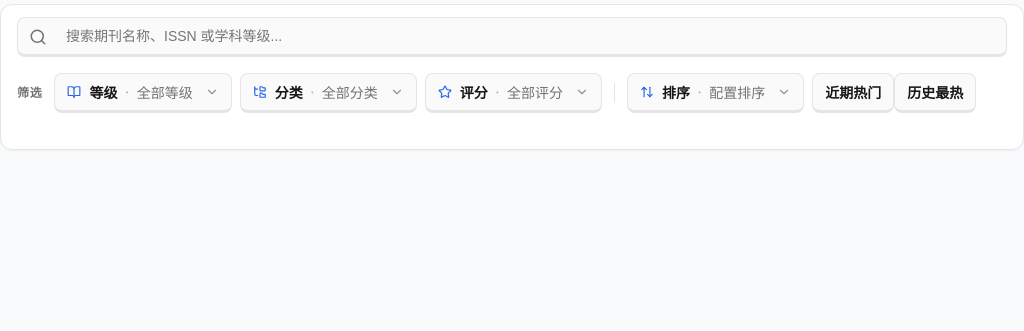
SearchAndFilter › Level Filter › should open level dropdown when clicked
Click the text "全部等级": (165, 92) [137,82,193,102]
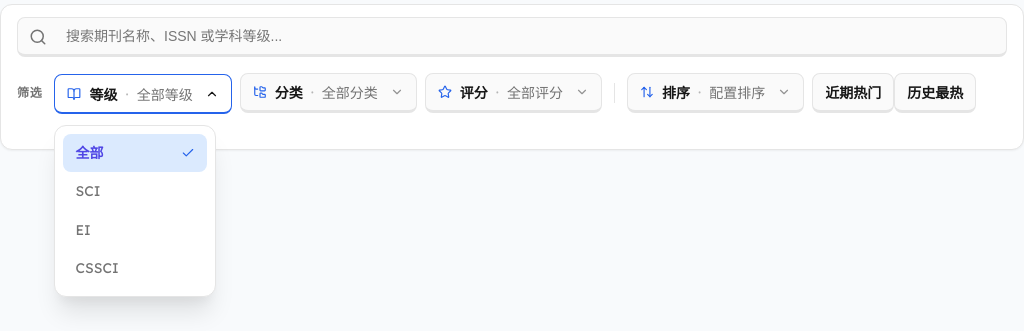
Result: the text "SCI" is shown at [76,180,100,203]
Result: the text "EI" is shown at [76,219,91,241]
Result: the text "CSSCI" is shown at [76,257,119,280]
